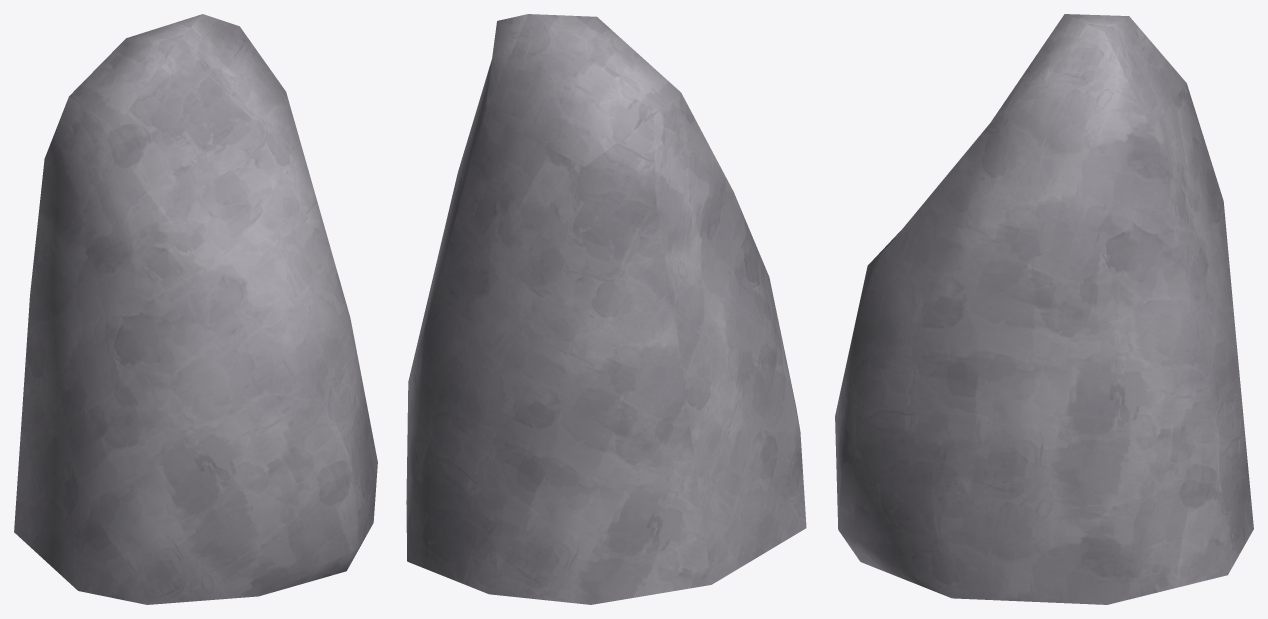
Rendered from Rock_4.fbx.
The picture shows the model from 3 angles, left to right: view 1: azimuth 30°, elevation 25°; view 2: azimuth 150°, elevation 25°; view 3: azimuth 270°, elevation 25°; orthographic projection. The views are drawn at different scales.
Visible parts, largest first — view 1: Rock_4; view 2: Rock_4; view 3: Rock_4.
Boxes of the visible parts, box(x1,y1,x2,y2) form: Rock_4: box(14, 14, 377, 604); Rock_4: box(406, 14, 806, 604); Rock_4: box(835, 14, 1253, 604).
Bounding box in the file's own units: 1.55 × 2.34 × 1.73.
